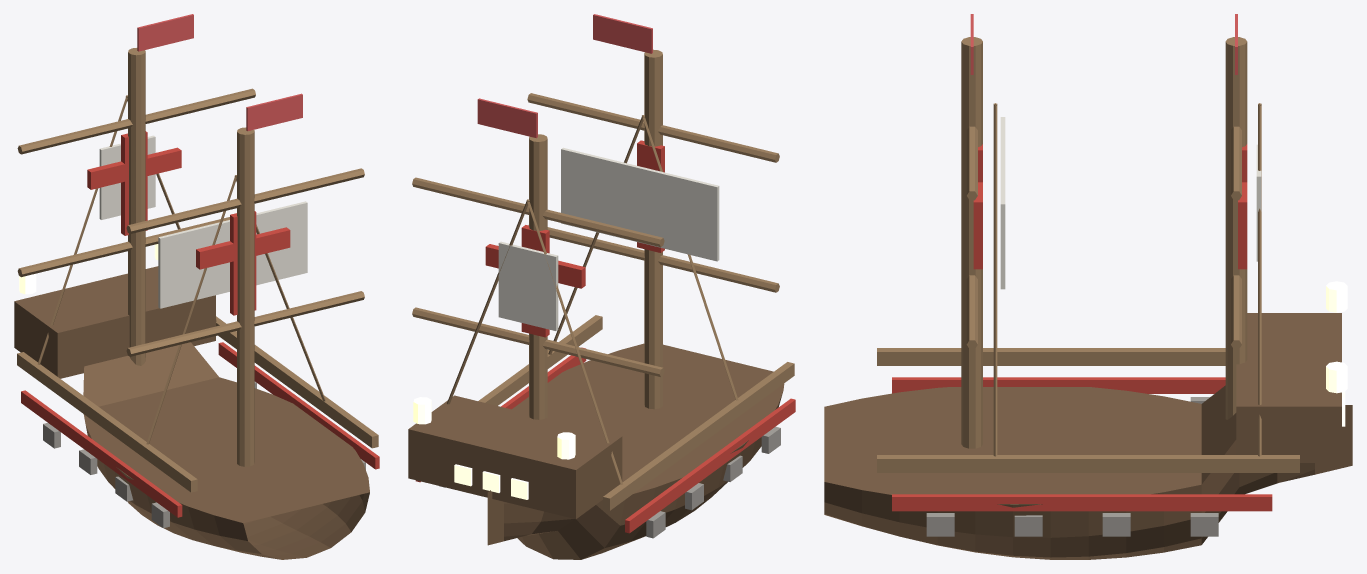
Rendered from ship_medium.glb.
3 views of the same model, side by side, from view 1: azimuth 30°, elevation 25°; view 2: azimuth 150°, elevation 25°; view 3: azimuth 270°, elevation 25° (orthographic). The views are drawn at different scales.
Parts seen in each view (by area): view 1: ship_medium; view 2: ship_medium; view 3: ship_medium.
Part boxes in pixels (x1,y1,x2,y2): ship_medium: (14,14,379,559); ship_medium: (408,14,795,559); ship_medium: (824,14,1352,559).
Size of the model in its own units: 1.05 by 1.89 by 1.7.
